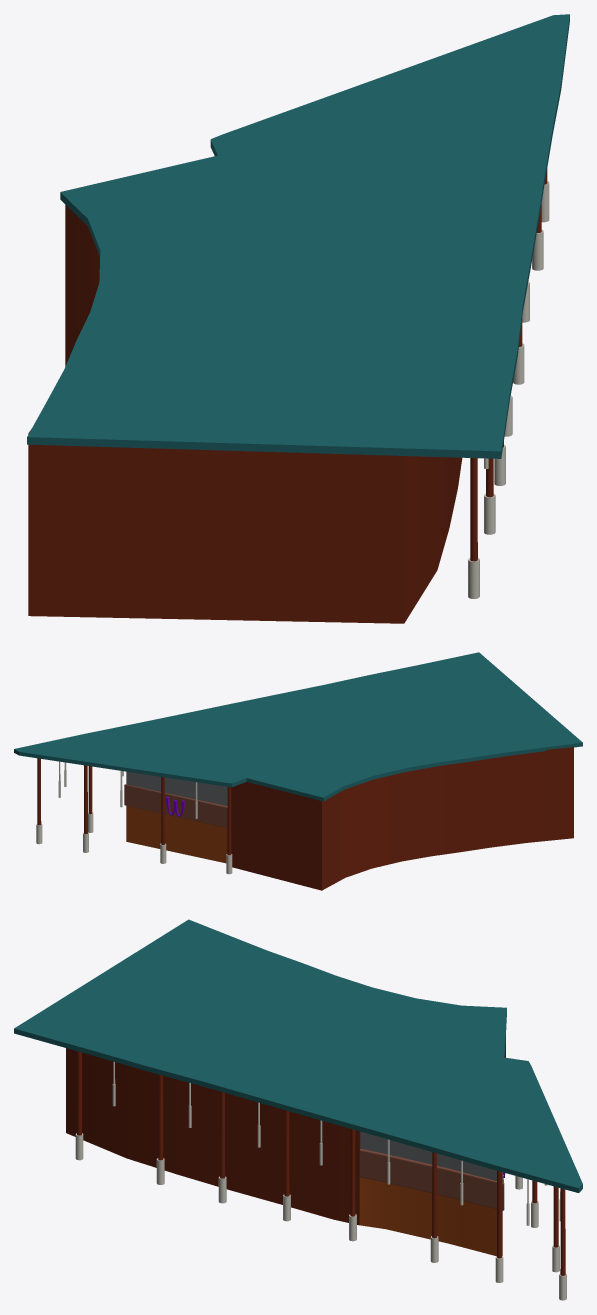
Rendered from MacDonalds Westerhaven.fbx.
3 renders of one model, top to bottom at view 1: azimuth 30°, elevation 25°; view 2: azimuth 150°, elevation 25°; view 3: azimuth 270°, elevation 25°, orthographic. The views are drawn at different scales.
Visible parts, largest first — view 1: Building; view 2: Building; view 3: Building.
Boxes of the visible parts, x1,y1,x2,y2 form: Building: [27, 14, 569, 623]; Building: [14, 652, 582, 890]; Building: [14, 919, 582, 1300].
Size of the model in its own units: 5541 by 1181 by 4955.
